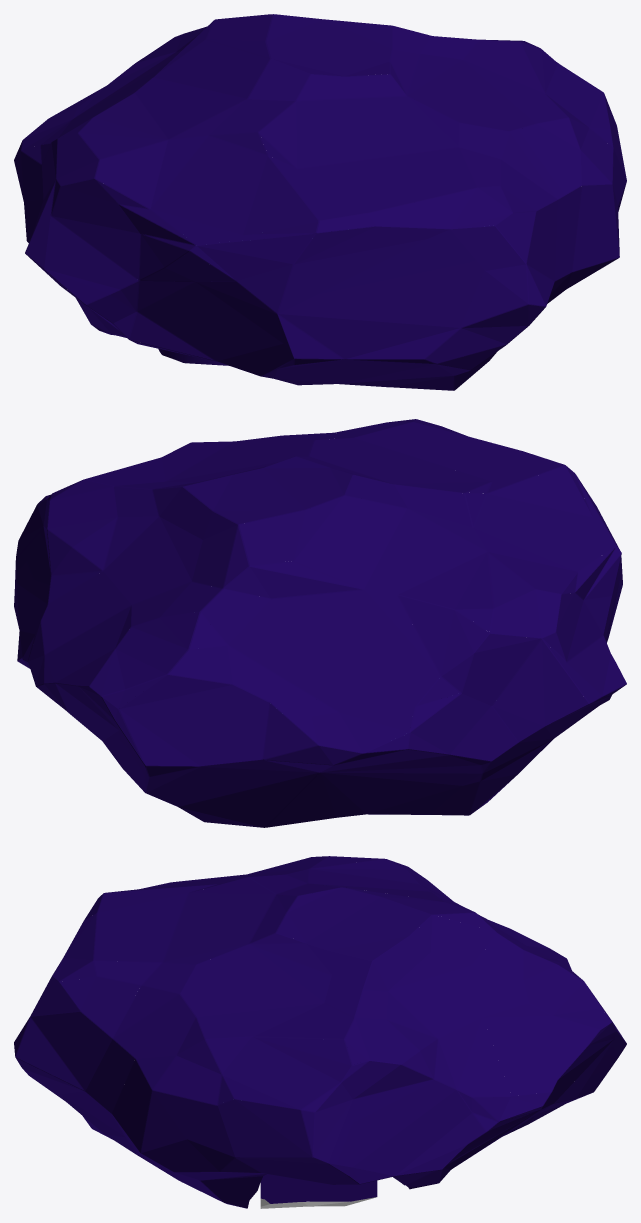
Rendered from php.glb.
3 views of the same model, one above another, from view 1: azimuth 30°, elevation 25°; view 2: azimuth 150°, elevation 25°; view 3: azimuth 270°, elevation 25° (orthographic). The views are drawn at different scales.
Parts seen in each view (by area): view 1: Cube.007; view 2: Cube.007; view 3: Cube.007.
Boxes of the visible parts, x1,y1,x2,y2 form: Cube.007: (14, 14, 626, 390); Cube.007: (14, 419, 626, 827); Cube.007: (14, 856, 626, 1208).
Size of the model in its own units: 2 by 0.9323 by 2.04.
